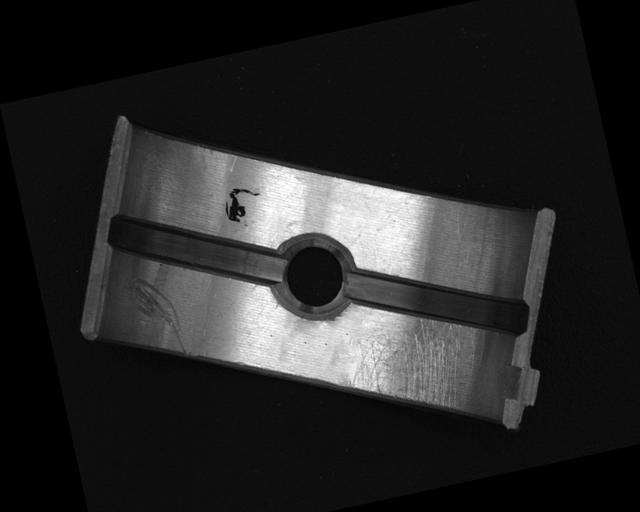blot: (219, 181, 266, 226)
gap: (342, 236, 539, 370), (100, 180, 291, 317)
hole: (268, 229, 359, 322)
nick: (123, 266, 187, 364)
scratch: (336, 312, 474, 432)
